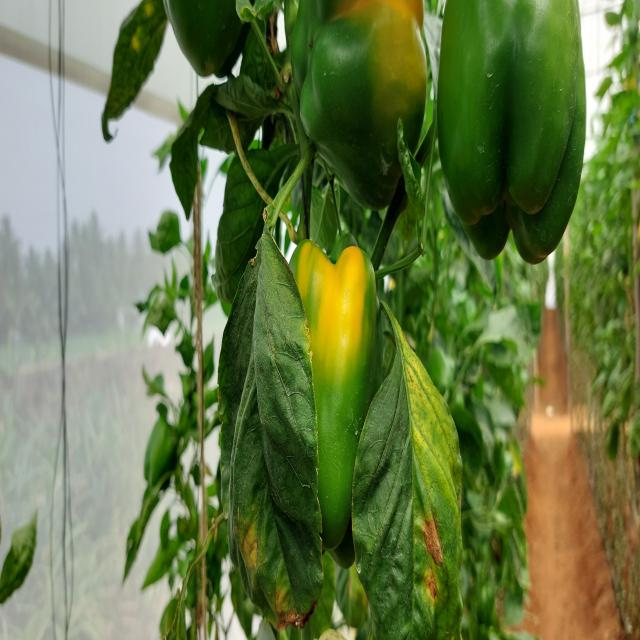Green--Not-ready-to-harvest: (441, 8, 598, 278)
GreenishYellow--Can-be-Harvested: (278, 226, 398, 537), (292, 2, 422, 181)
